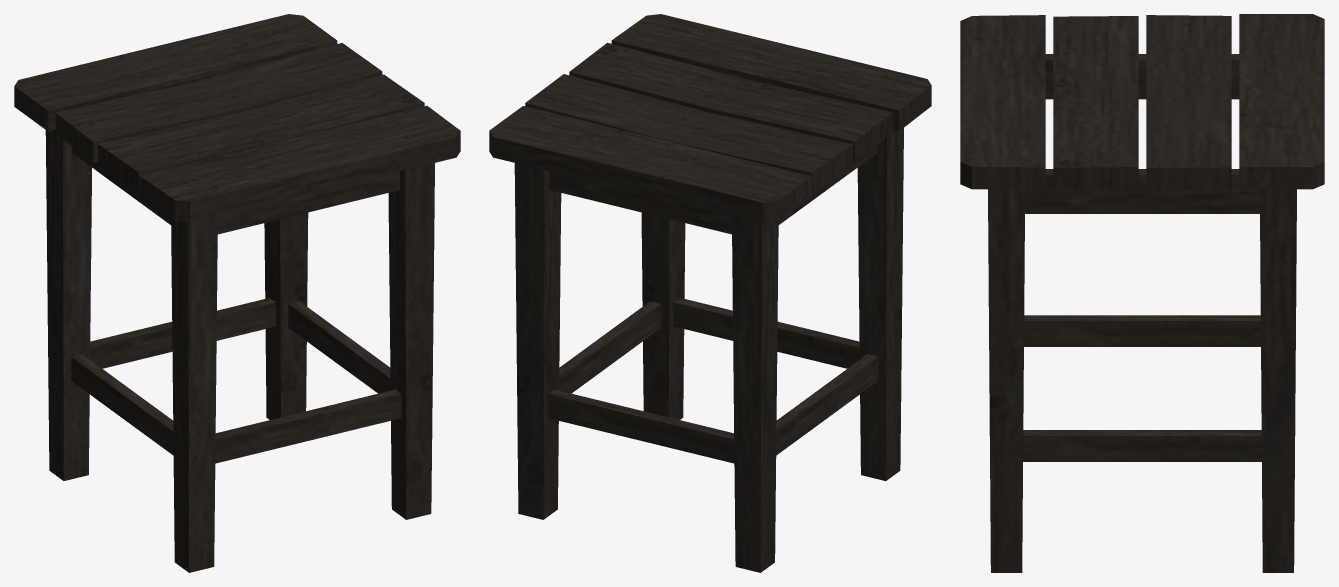
The model's file is chair_mp_1.obj.
3 views of the same model, side by side, from view 1: azimuth 30°, elevation 25°; view 2: azimuth 150°, elevation 25°; view 3: azimuth 270°, elevation 25° (orthographic). The views are drawn at different scales.
Visible parts, largest first — view 1: chair_mp_1; view 2: chair_mp_1; view 3: chair_mp_1.
Boxes of the visible parts, left/top/right/bottom form: chair_mp_1: left=14, top=14, right=460, bottom=572; chair_mp_1: left=489, top=14, right=931, bottom=572; chair_mp_1: left=960, top=14, right=1324, bottom=572.
Bounding box in the file's own units: 0.4707 × 0.594 × 0.47.
